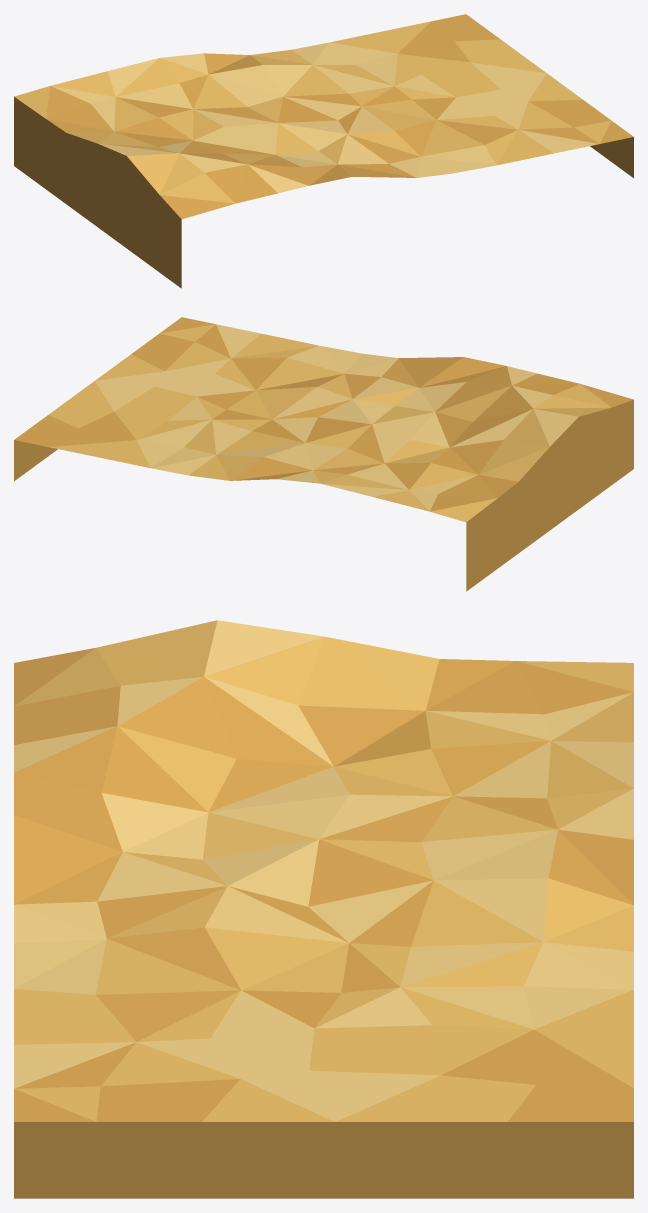
Rendered from playa_teselada_dorada.obj.
3 views of the same model, one above another, from view 1: azimuth 30°, elevation 25°; view 2: azimuth 150°, elevation 25°; view 3: azimuth 270°, elevation 25° (orthographic). The views are drawn at different scales.
Parts seen in each view (by area): view 1: playa_teselada_dorada; view 2: playa_teselada_dorada; view 3: playa_teselada_dorada.
Boxes of the visible parts, x1,y1,x2,y2 form: playa_teselada_dorada: [14, 14, 633, 288]; playa_teselada_dorada: [14, 317, 633, 591]; playa_teselada_dorada: [14, 620, 633, 1198].
Bounding box in the file's own units: 14 × 2.74 × 9.
